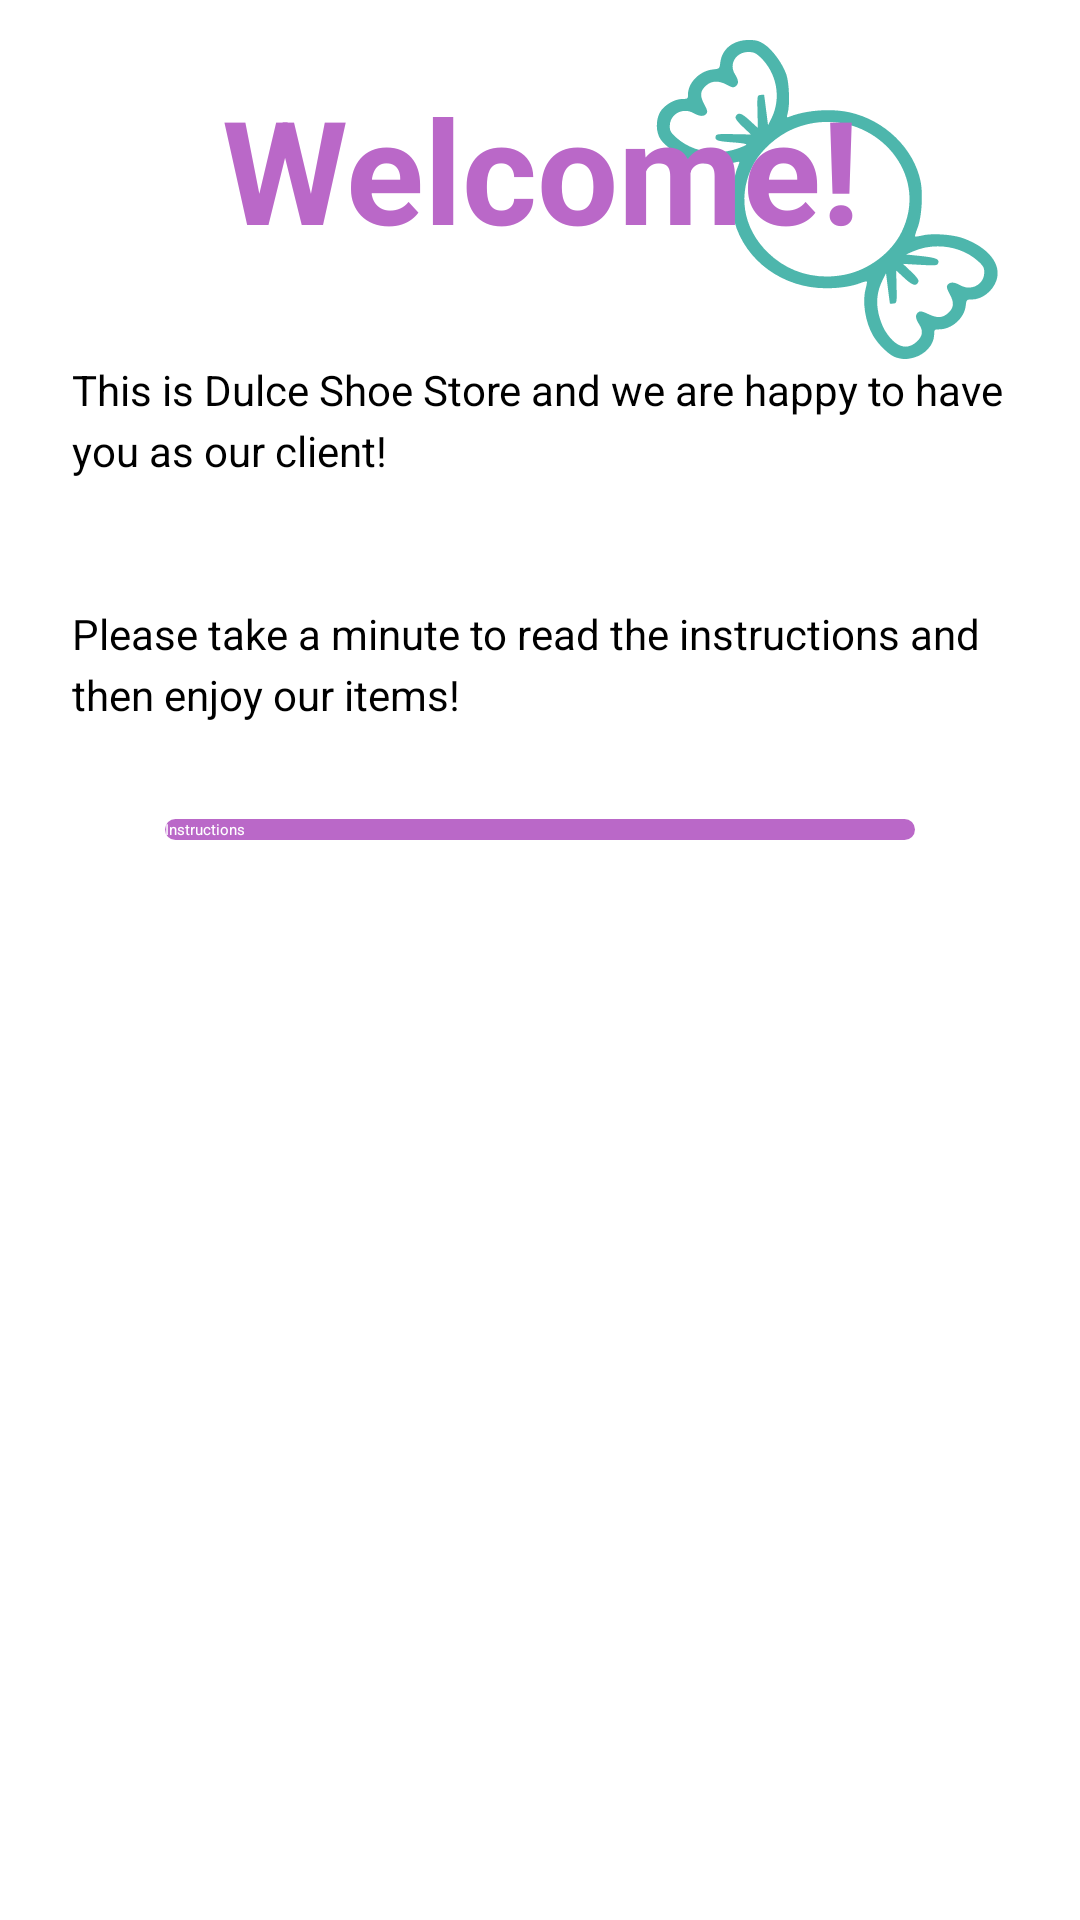

Locate icon controls on the screen. Image size 1080px×1920px, boxes as Rect(x1, y1, x2, y2).
sweet: Rect(648, 40, 998, 378)
